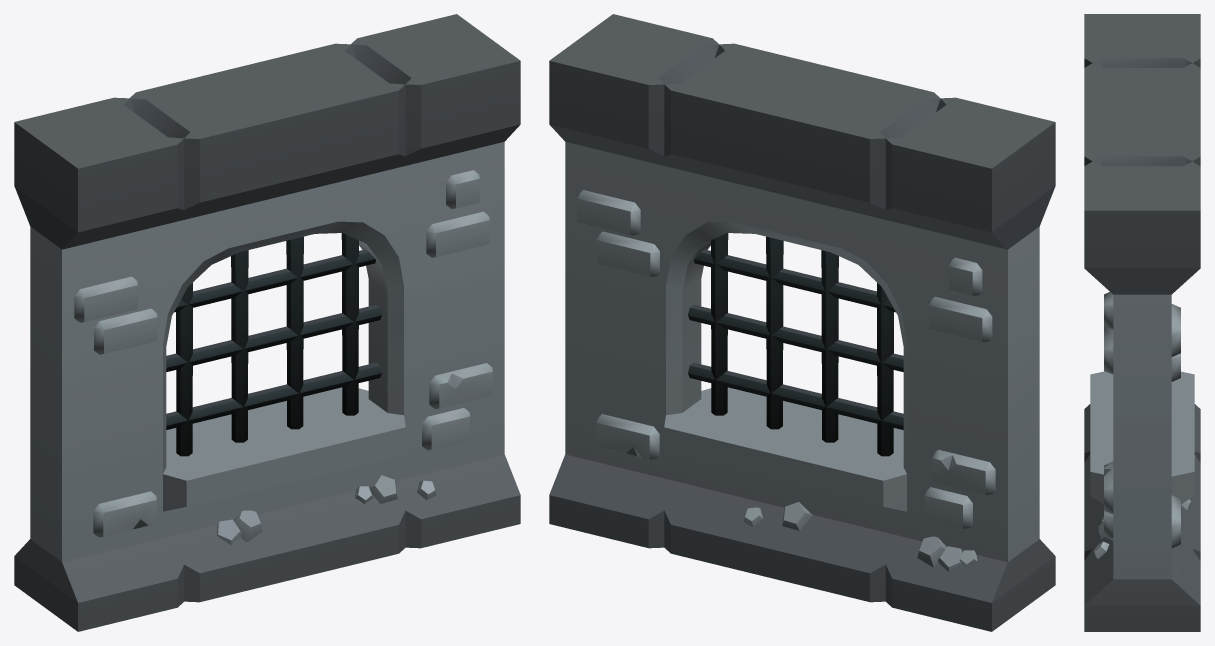
File: wall_archedwindow_gated.glb
3 renders of one model, left to right at view 1: azimuth 30°, elevation 25°; view 2: azimuth 150°, elevation 25°; view 3: azimuth 270°, elevation 25°, orthographic. The views are drawn at different scales.
Parts seen in each view (by area): view 1: wall_archedwindow_gated; view 2: wall_archedwindow_gated; view 3: wall_archedwindow_gated.
Part boxes in pixels (bbox=[...]): wall_archedwindow_gated: bbox=[14, 14, 520, 631]; wall_archedwindow_gated: bbox=[549, 14, 1055, 631]; wall_archedwindow_gated: bbox=[1084, 14, 1200, 631].
Size of the model in its own units: 4 by 4 by 1.
Materials: 1 (1 with a texture image).
